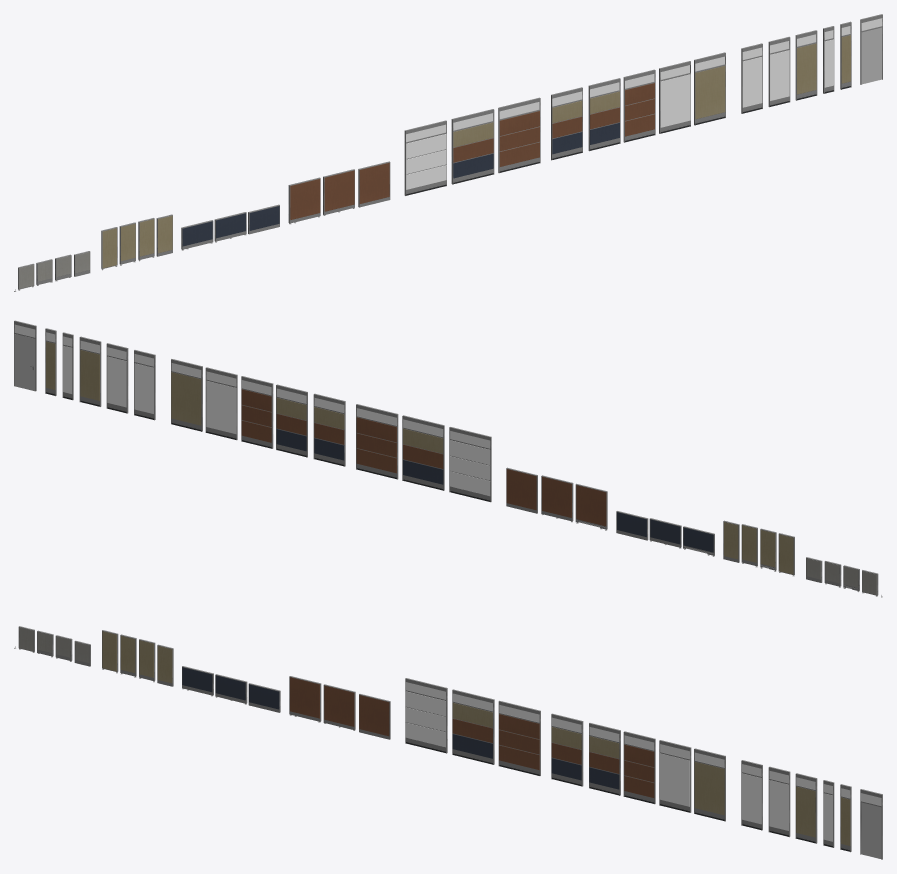
File: walls_cubicals_master.FBX
3 views of the same model, one above another, from view 1: azimuth 30°, elevation 25°; view 2: azimuth 150°, elevation 25°; view 3: azimuth 330°, elevation 25° (orthographic).
Parts seen in each view (by area): view 1: modular_wall_2m_a_01, modular_wall_2m_b_01, modular_wall_2m_b_01_glass, modular_wall_1.5m_d_01, modular_wall_1.5m_c_01, modular_wall_1.5m_c_01_glass, modular_wall_1.5m_a_01, modular_wall_1.5m_b_01, modular_wall_1m_b_01, modular_wall_1m_a_01, modular_wall_1m_b_01_glass, cubical_wall_1.5m_c_01 (+12 smaller); view 2: modular_wall_2m_b_01_glass, modular_wall_2m_a_01, modular_wall_2m_b_01, modular_wall_1.5m_b_01, modular_wall_1.5m_c_01_glass, modular_wall_1.5m_c_01, modular_wall_1.5m_a_01, modular_wall_1.5m_d_01, modular_wall_1m_b_01, modular_wall_1m_a_01, modular_wall_1m_b_01_glass, cubical_wall_1.5m_b_01 (+12 smaller); view 3: modular_wall_2m_a_01, modular_wall_2m_b_01, modular_wall_2m_b_01_glass, modular_wall_1.5m_b_01, modular_wall_1.5m_c_01, modular_wall_1.5m_c_01_glass, modular_wall_1.5m_a_01, modular_wall_1.5m_d_01, modular_wall_1m_b_01, modular_wall_1m_a_01, modular_wall_1m_b_01_glass, cubical_wall_1.5m_c_01 (+13 smaller).
Part boxes in pixels (box(x1,y1,x2,y2)): modular_wall_2m_a_01: box(451, 109, 494, 184); modular_wall_2m_b_01: box(498, 97, 540, 173); modular_wall_2m_b_01_glass: box(404, 120, 446, 195); modular_wall_1.5m_d_01: box(588, 78, 620, 151); modular_wall_1.5m_c_01: box(623, 69, 655, 142); modular_wall_1.5m_c_01_glass: box(551, 87, 582, 160); modular_wall_1.5m_a_01: box(694, 52, 725, 125); modular_wall_1.5m_b_01: box(659, 61, 690, 133); modular_wall_1m_b_01: box(768, 36, 790, 107); modular_wall_1m_a_01: box(795, 30, 817, 100); modular_wall_1m_b_01_glass: box(741, 43, 762, 113); cubical_wall_1.5m_c_01: box(288, 177, 320, 224); modular_wall_2m_b_01_glass: box(449, 427, 491, 502); modular_wall_2m_a_01: box(402, 415, 444, 490); modular_wall_2m_b_01: box(356, 404, 398, 479); modular_wall_1.5m_b_01: box(205, 367, 237, 440); modular_wall_1.5m_c_01_glass: box(313, 393, 345, 466); modular_wall_1.5m_c_01: box(241, 376, 273, 448); modular_wall_1.5m_a_01: box(171, 359, 202, 431); modular_wall_1.5m_d_01: box(276, 384, 307, 457); modular_wall_1m_b_01: box(106, 343, 128, 413); modular_wall_1m_a_01: box(79, 336, 101, 406); modular_wall_1m_b_01_glass: box(134, 350, 155, 420); cubical_wall_1.5m_b_01: box(541, 475, 573, 522); modular_wall_2m_a_01: box(452, 689, 494, 764); modular_wall_2m_b_01: box(498, 700, 540, 775); modular_wall_2m_b_01_glass: box(405, 678, 447, 753); modular_wall_1.5m_b_01: box(659, 740, 691, 812); modular_wall_1.5m_c_01: box(623, 731, 655, 804); modular_wall_1.5m_c_01_glass: box(551, 713, 583, 786); modular_wall_1.5m_a_01: box(694, 748, 725, 821); modular_wall_1.5m_d_01: box(589, 723, 620, 795); modular_wall_1m_b_01: box(768, 766, 790, 837); modular_wall_1m_a_01: box(795, 773, 817, 843); modular_wall_1m_b_01_glass: box(741, 760, 762, 830); cubical_wall_1.5m_c_01: box(289, 676, 321, 722).
Size of the model in its own units: 41.92 by 3 by 0.1953.
